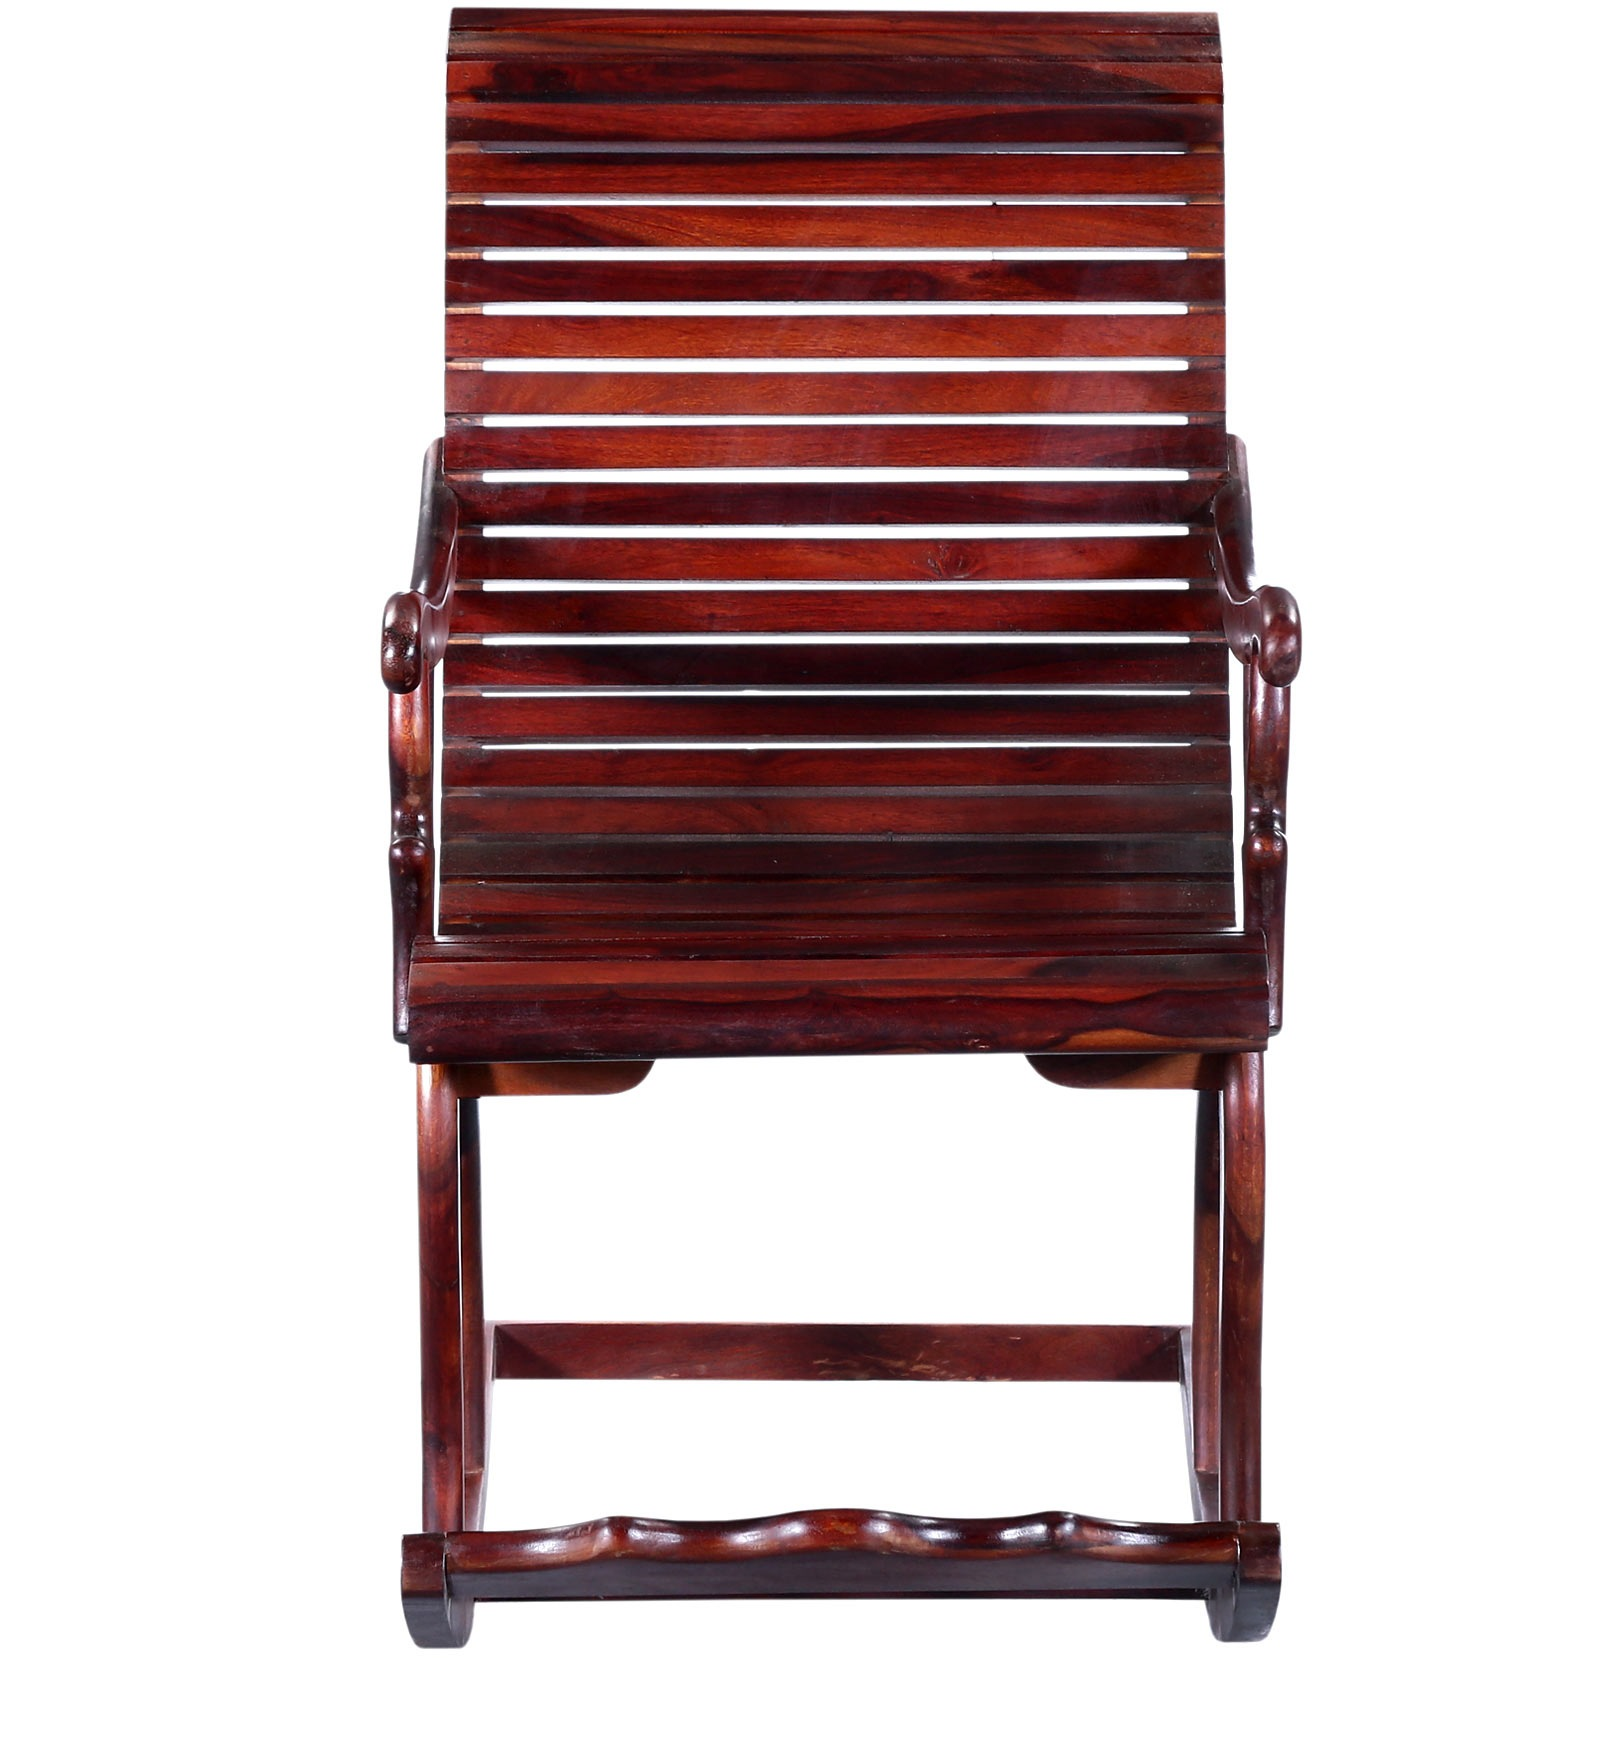Acklom Rocking Chair in Honey Oak Finish by Amberville: (357, 9, 1336, 1663)
